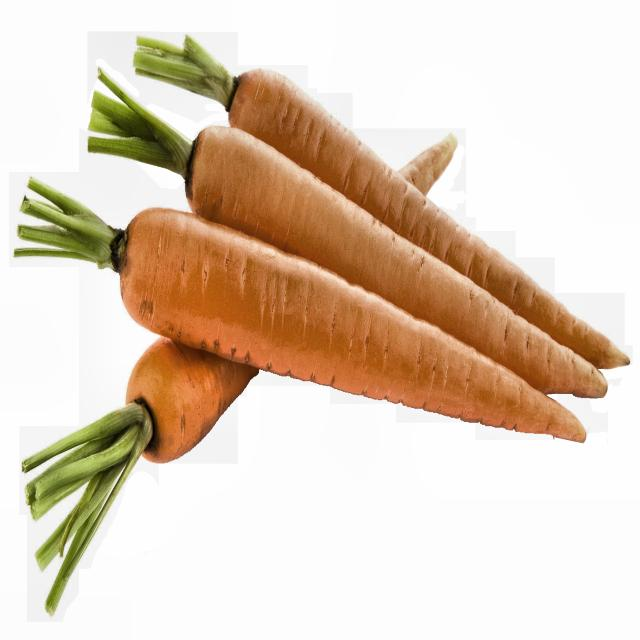carrot: (16, 24, 627, 576)
